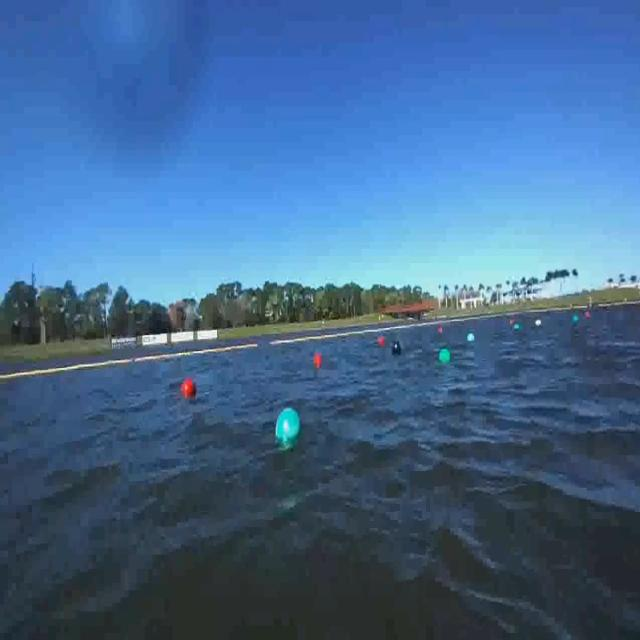black-buoy: (391, 342, 401, 357)
green-buoy: (278, 408, 302, 442), (440, 348, 452, 363)
red-buoy: (184, 377, 200, 398), (314, 352, 323, 369), (374, 331, 386, 343)
